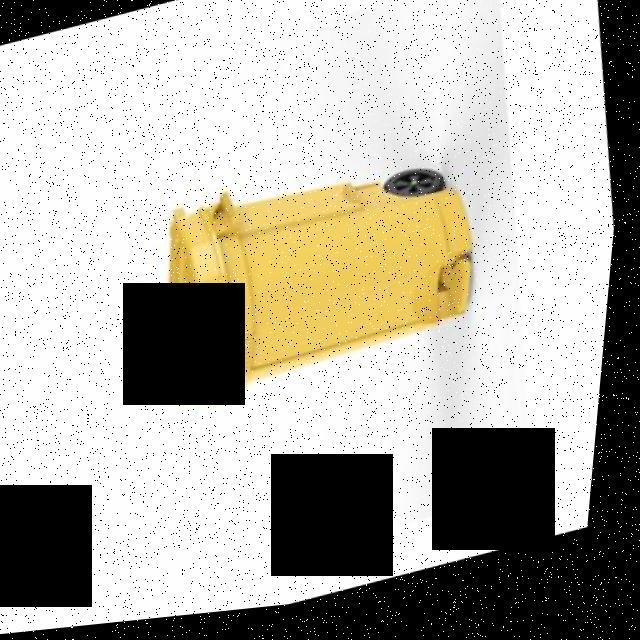bin: (120, 121, 525, 433)
